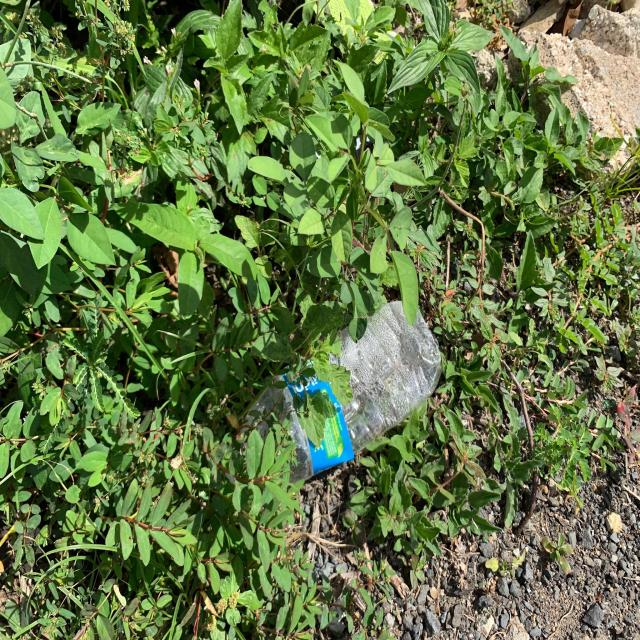litter: (238, 302, 442, 486)
